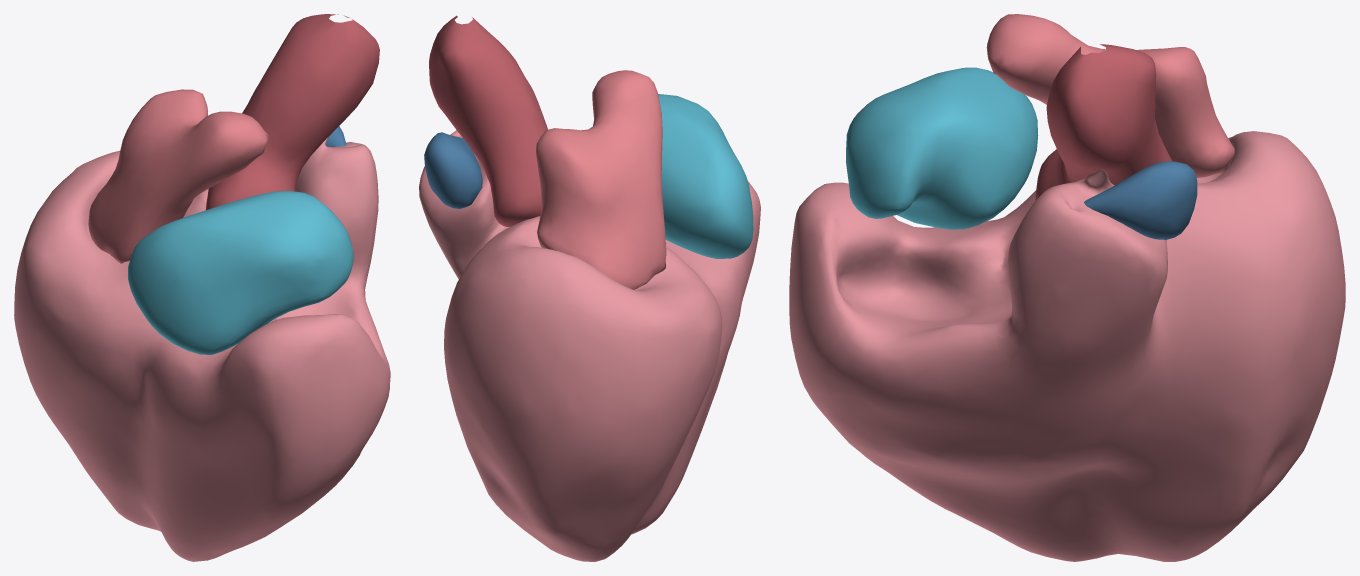
File: frame_69.glb
The picture shows the model from 3 angles, left to right: view 1: azimuth 30°, elevation 25°; view 2: azimuth 150°, elevation 25°; view 3: azimuth 270°, elevation 25°; orthographic projection. The views are drawn at different scales.
Visible parts, largest first — view 1: Renderer Node; view 2: Renderer Node; view 3: Renderer Node.
Boxes of the visible parts, left/top/right/bottom form: Renderer Node: left=14, top=14, right=390, bottom=561; Renderer Node: left=419, top=15, right=760, bottom=561; Renderer Node: left=789, top=14, right=1345, bottom=561.
Bounding box in the file's own units: 107 × 164 × 137.
